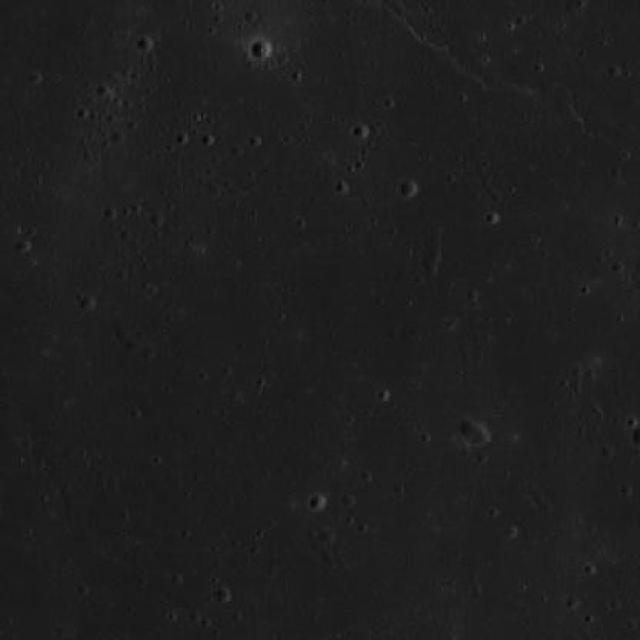crater: (459, 420, 487, 448), (250, 39, 272, 61), (398, 179, 416, 198), (308, 492, 326, 510), (318, 526, 336, 543), (78, 295, 95, 311), (136, 36, 152, 52), (214, 586, 228, 602)
